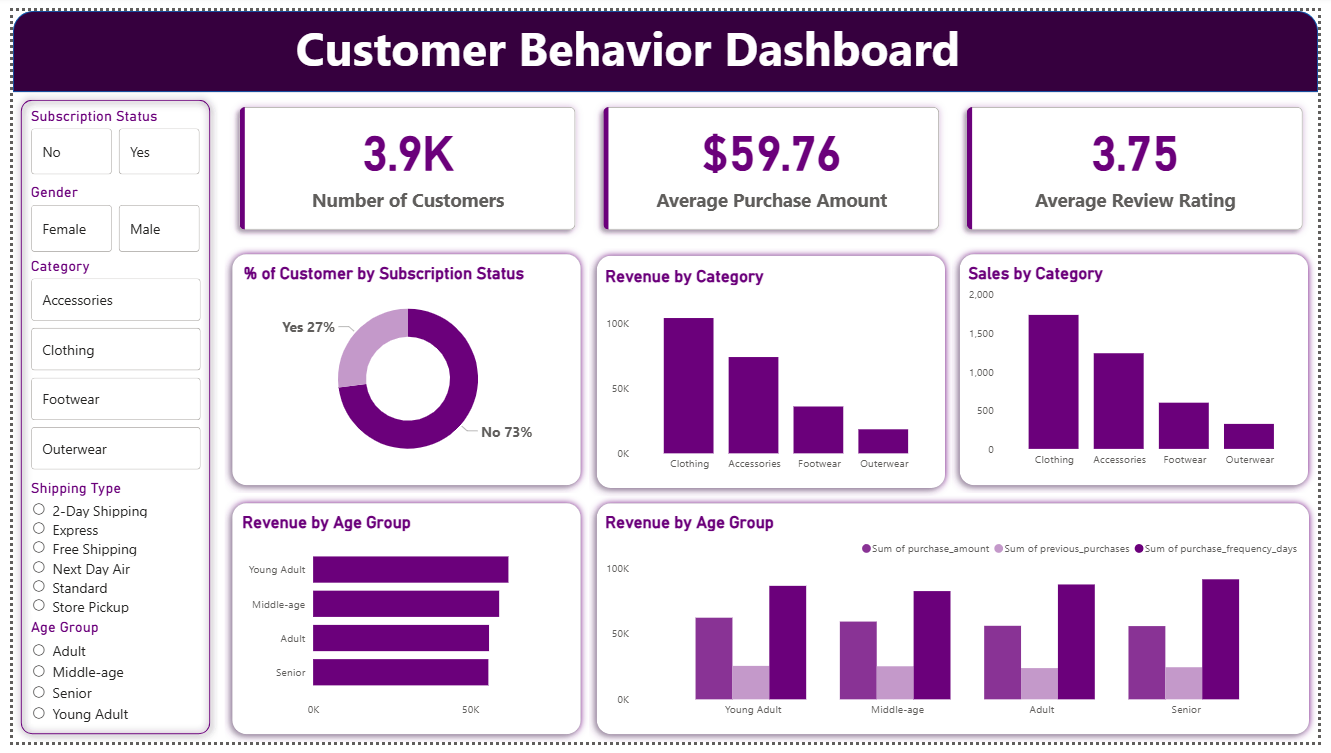

This screenshot's page, from the dashboard's own definition file:
{"tool":"powerbi","page":{"name":"Page 1","canvas":[1500,840],"ordinal":0},"visuals":[{"type":"shape","box":[0,92.9,235.7,747.1],"z":0},{"type":"shape","box":[1080,270,418.3,283.3],"z":1000},{"type":"shape","box":[661.7,271.7,418.3,285],"z":2000},{"type":"cardVisual","fields":{"Data":["public customer.Number of Customers","public customer.Average Purchase Amount","public customer.Average Review Rating"]},"box":[243.3,93.3,1256.7,175],"z":3000},{"type":"shape","box":[0,0,1500,93.3],"z":4000},{"type":"textbox","box":[0,0,1414,94],"z":5000},{"type":"shape","box":[243.3,270,418.3,283.3],"z":6000},{"type":"donutChart","title":"% of Customer by Subscription Status","fields":{"Category":["public customer.subscription_status"],"Y":["CountNonNull(public customer.customer_id)"]},"box":[260,290,386.7,243.3],"z":7000},{"type":"clusteredColumnChart","title":"Revenue by Category","fields":{"Y":["Sum(public customer.purchase_amount)"],"Category":["public customer.category"]},"box":[676.7,293.3,390,245],"z":8000},{"type":"clusteredColumnChart","title":"Sales by Category","fields":{"Category":["public customer.category"],"Y":["CountNonNull(public customer.customer_id)"]},"box":[1093.3,290,393.3,243.3],"z":9000},{"type":"advancedSlicerVisual","title":"Subscription Status","fields":{"Values":["public customer.subscription_status"]},"box":[15,110.8,204.2,82.5],"z":10000},{"type":"advancedSlicerVisual","title":"Gender","fields":{"Values":["public customer.gender"]},"box":[15,198.8,205,83.8],"z":11000},{"type":"advancedSlicerVisual","title":"Category","fields":{"Values":["public customer.category"]},"box":[15,283,205,250],"z":12000},{"type":"listSlicer","title":"Shipping Type","fields":{"Values":["public customer.shipping_type"]},"box":[15,538,205,161],"z":13000},{"type":"listSlicer","title":"Age Group","fields":{"Values":["public customer.age_group"]},"box":[15,698,205,128],"z":14000},{"type":"qnaVisual","box":[273.3,1119.3,418.7,274.7],"z":15000},{"type":"shape","box":[243.3,556.7,418.3,283.3],"z":16000},{"type":"clusteredBarChart","title":"Revenue Distribution by Age Group","fields":{"Y":["Sum(public customer.purchase_amount)"],"Category":["public customer.age_group"]},"box":[258.3,576.7,390,245],"z":17000},{"type":"shape","box":[661.7,556.7,836.7,283.3],"z":18000},{"type":"clusteredColumnChart","title":"Purchase Behavior Comparison by Age Group","fields":{"Category":["public customer.age_group"],"Y":["Sum(public customer.purchase_amount)","Sum(public customer.previous_purchases)","Sum(public customer.purchase_frequency_days)"]},"box":[676.7,576.7,810,245],"z":19000}]}

Visuals, with their boxes in screenshot pixels (x1, y1, x2, y2), scaled from the page's 1500x840 canvas onto the 1331x753 screenshot:
shape: x1=0, y1=83, x2=209, y2=752
shape: x1=958, y1=242, x2=1329, y2=496
shape: x1=587, y1=244, x2=958, y2=499
cardVisual - public customer.Number of Customers x public customer.Average Purchase Amount: x1=216, y1=84, x2=1330, y2=241
shape: x1=0, y1=0, x2=1330, y2=84
textbox: x1=0, y1=0, x2=1255, y2=84
shape: x1=216, y1=242, x2=587, y2=496
"% of Customer by Subscription Status" donutChart: x1=231, y1=260, x2=574, y2=478
"Revenue by Category" clusteredColumnChart: x1=600, y1=263, x2=947, y2=483
"Sales by Category" clusteredColumnChart: x1=970, y1=260, x2=1319, y2=478
"Subscription Status" advancedSlicerVisual: x1=13, y1=99, x2=195, y2=173
"Gender" advancedSlicerVisual: x1=13, y1=178, x2=195, y2=253
"Category" advancedSlicerVisual: x1=13, y1=254, x2=195, y2=478
"Shipping Type" listSlicer: x1=13, y1=482, x2=195, y2=627
"Age Group" listSlicer: x1=13, y1=626, x2=195, y2=740
shape: x1=216, y1=499, x2=587, y2=752
"Revenue Distribution by Age Group" clusteredBarChart: x1=229, y1=517, x2=575, y2=737
shape: x1=587, y1=499, x2=1330, y2=752
"Purchase Behavior Comparison by Age Group" clusteredColumnChart: x1=600, y1=517, x2=1319, y2=737
